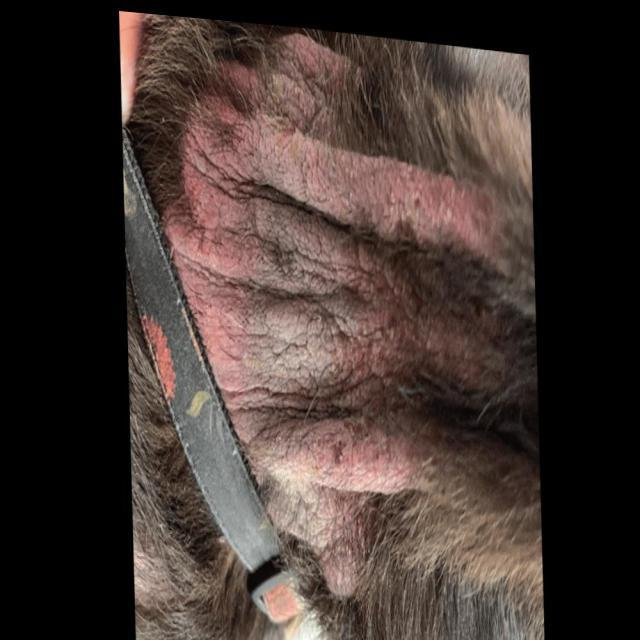allergic dermatitis: (149, 35, 496, 509)
